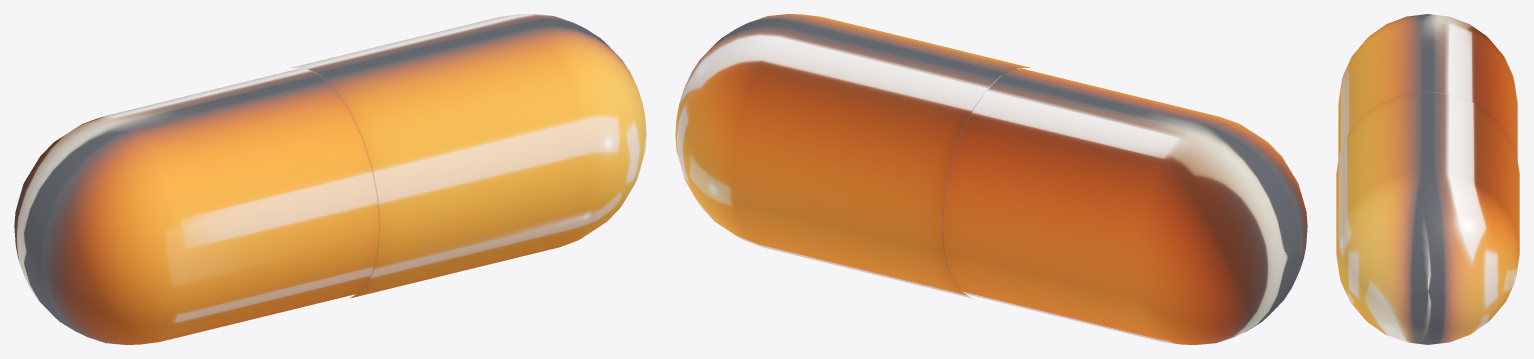
The model's file is nzt48-gold-pill.glb.
3 renders of one model, left to right at view 1: azimuth 30°, elevation 25°; view 2: azimuth 150°, elevation 25°; view 3: azimuth 270°, elevation 25°, orthographic. The views are drawn at different scales.
Visible parts, largest first — view 1: PillLower, PillUpper; view 2: PillLower, PillUpper; view 3: PillUpper, PillLower.
Boxes of the visible parts, x1,y1,x2,y2 form: PillLower: (14,68,379,344); PillUpper: (291,14,646,298); PillLower: (942,68,1307,344); PillUpper: (675,14,1030,298); PillUpper: (1336,91,1519,344); PillLower: (1338,14,1517,158).
Bounding box in the file's own units: 0.0165 × 0.00567 × 0.00567.
2 materials, 2 textured.
